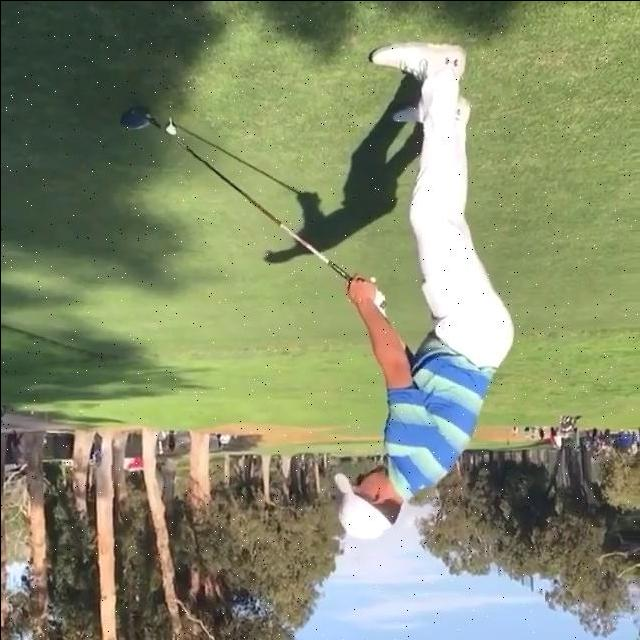ClubHandle: (118, 105, 387, 310)
ClubHead: (119, 104, 150, 128)
GolfBall: (165, 125, 177, 134)
